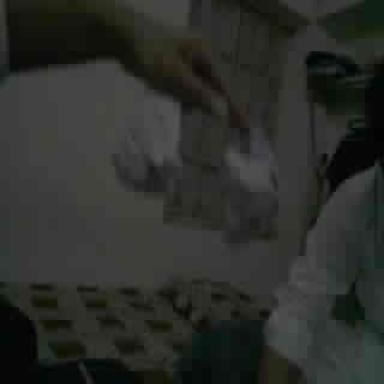paper: (118, 91, 276, 242)
